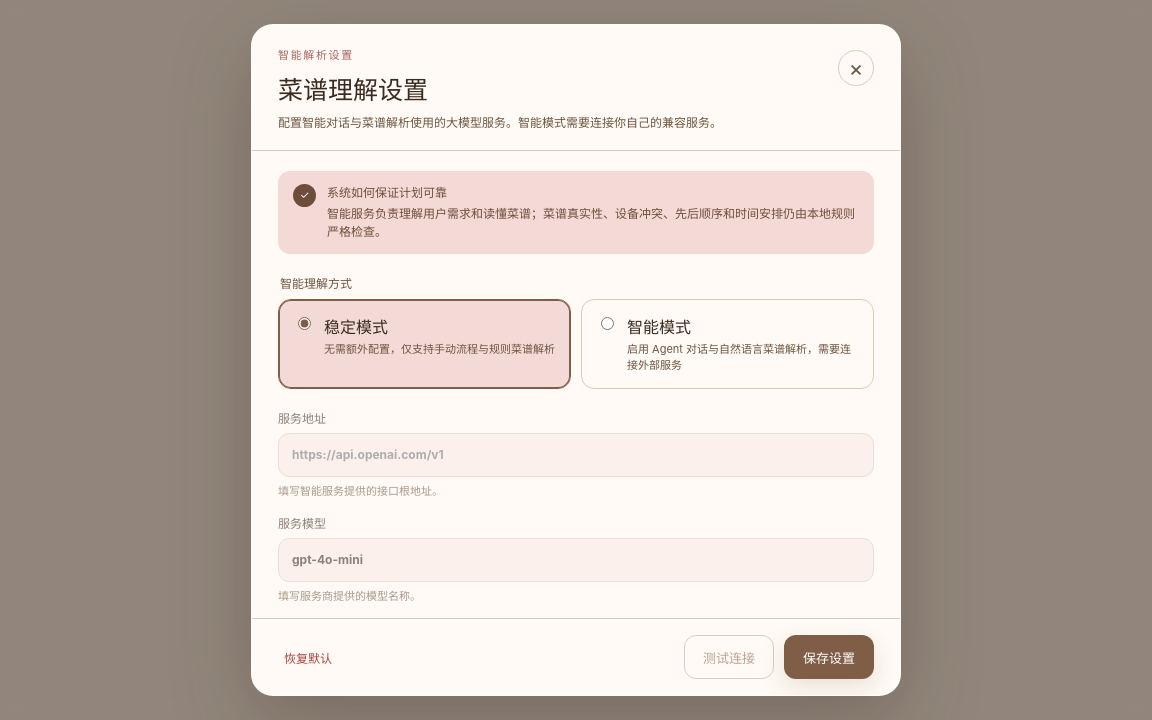
Scenario: keeps model fields inactive for deterministic parsing and enables them for AI parsing
Expected: the field labelled "服务地址 填写智能服务提供的接口根地址。" is disabled, [278,433,874,477]
Expected: the button "测试连接" is disabled, [684,635,774,679]
Click the text "智能模式" at (659, 327), box [627,317,691,337]
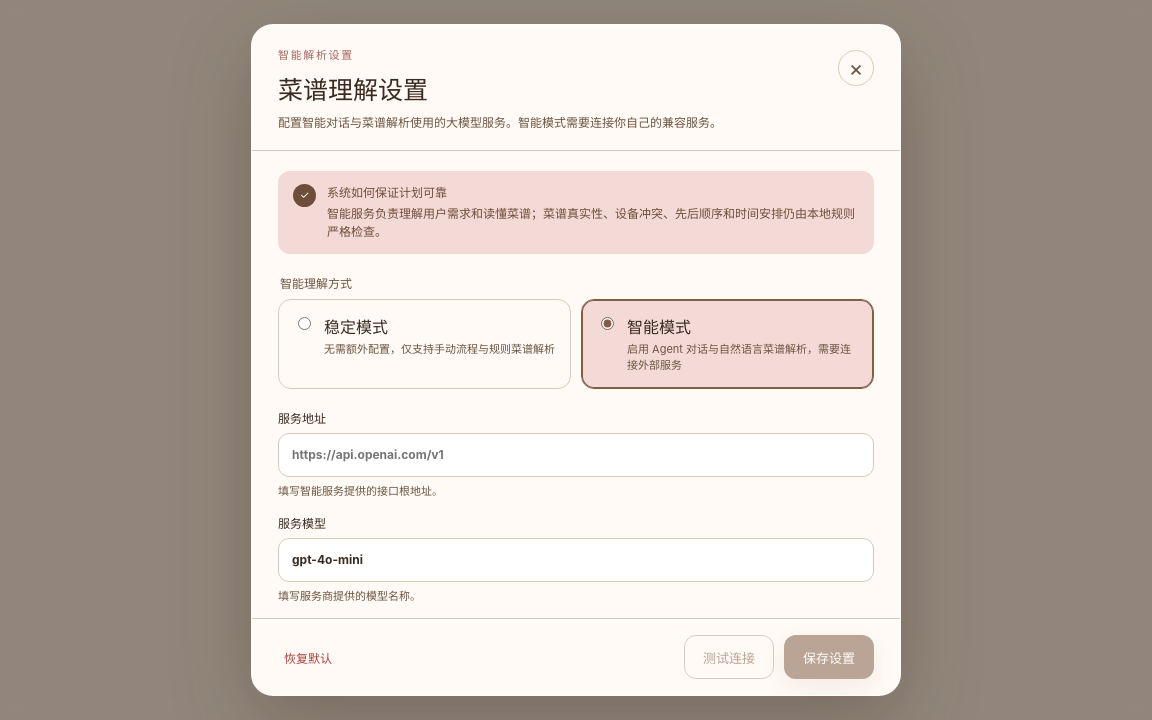
Result: the field labelled "服务地址 填写智能服务提供的接口根地址。" is enabled at [278,433,874,477]
Result: the field labelled "服务模型 填写服务商提供的模型名称。" is enabled at [278,538,874,582]
